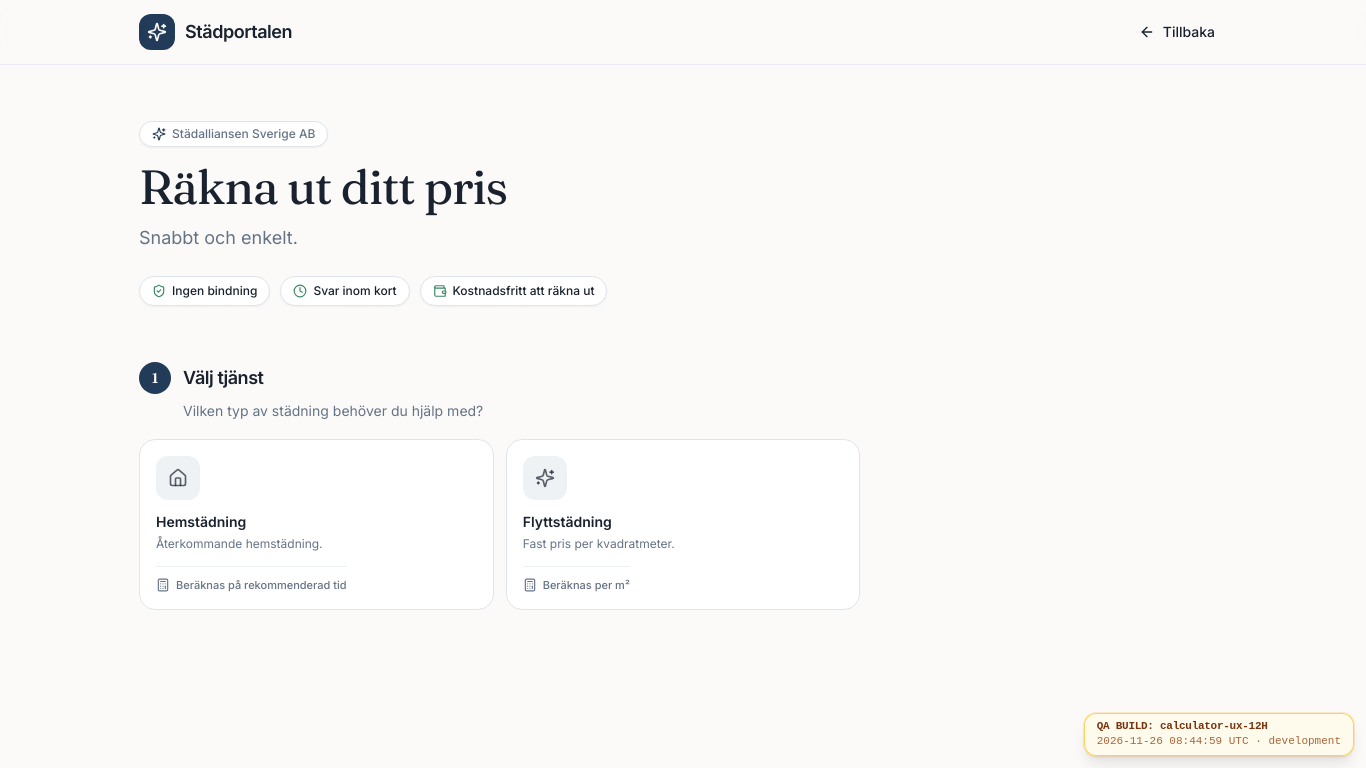
Test: PriceCalculator — selectable generic sqm_fixed service (GPM-9) › never shows a misleading hourly (kr/h) figure for the per-m² plan step
What coordinates should you click on to do the following:
click the button "Flyttstädning Fast pris per kvadratmeter. Beräknas per m²"
I would click on:
 (545, 478)
Its box is [506,439,860,610].
(page scrolled)
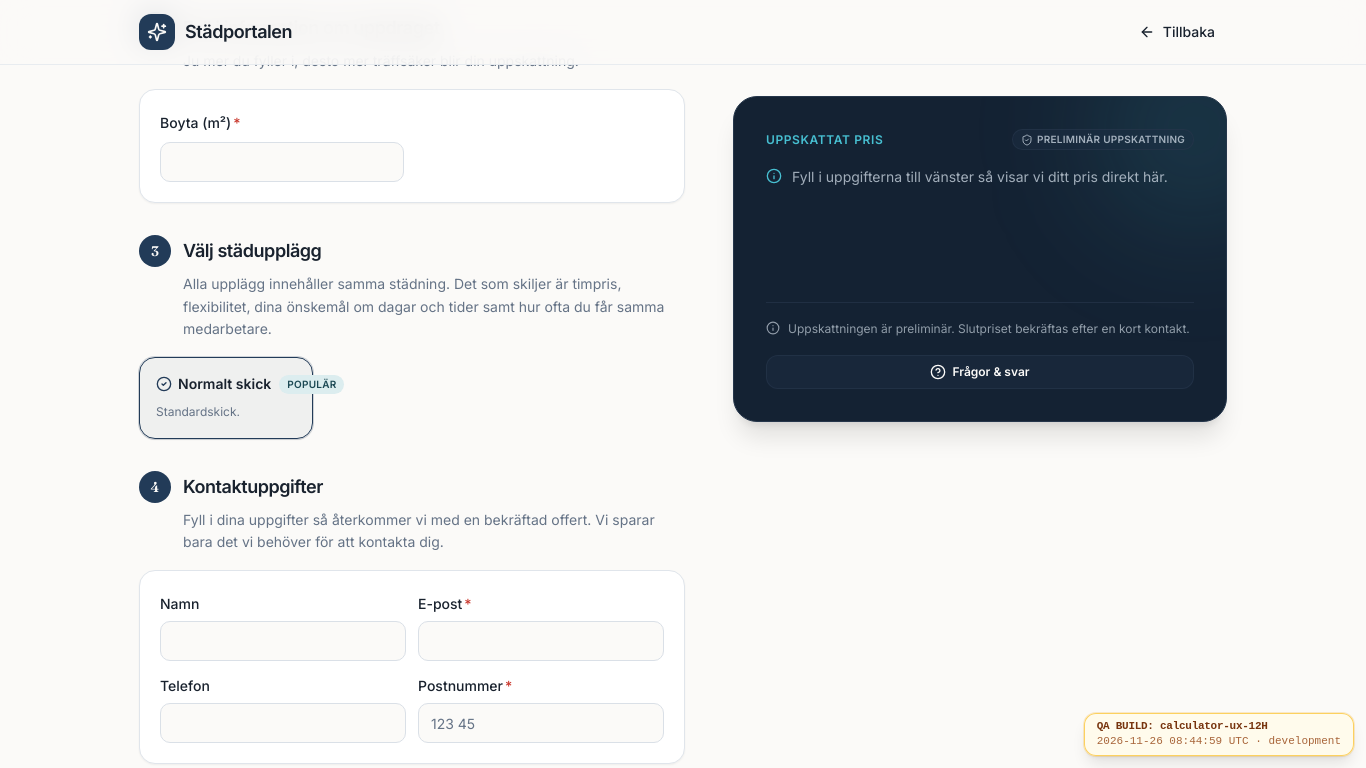
Now the text "Normalt skick" is shown, box [178,374,271,394]
